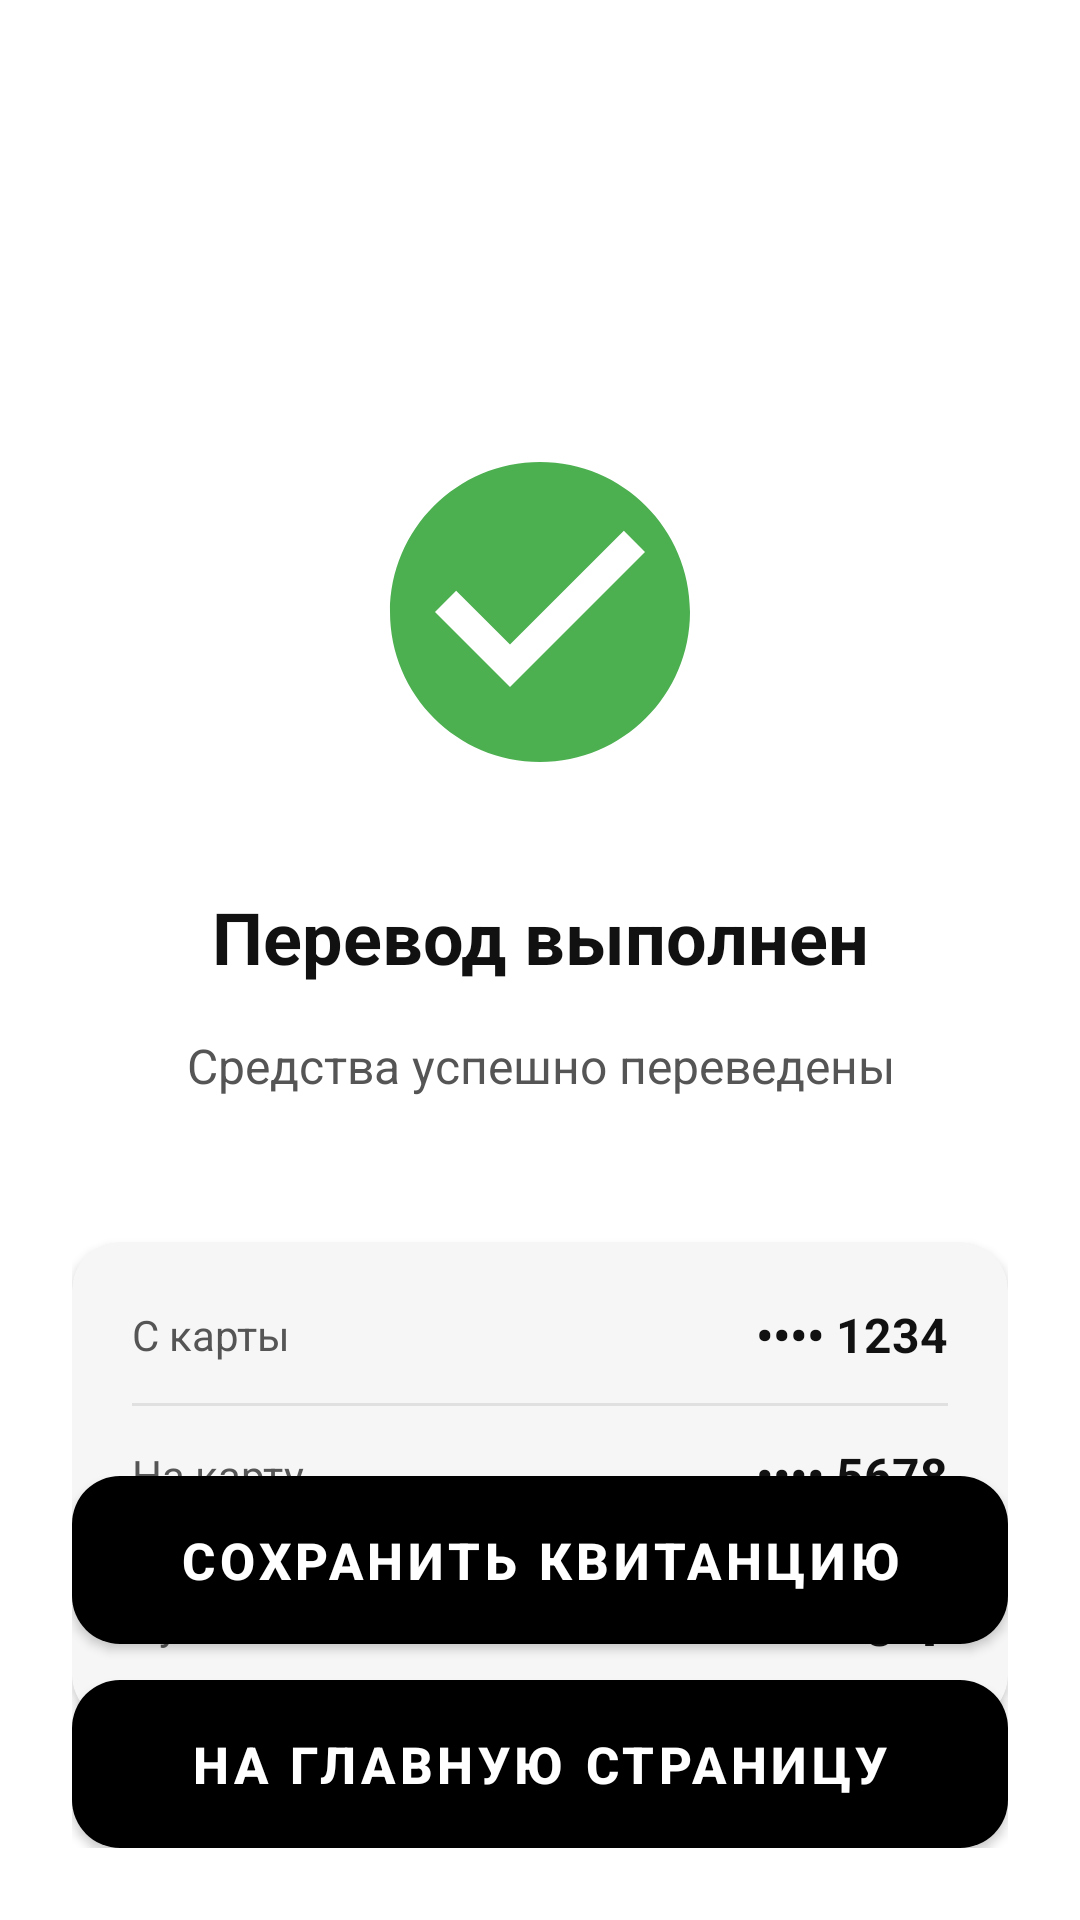

Named icons in this screenshot (1080w x 1920h) and their bounding boxes, (x1, y1, x2, y2):
check circle: (390, 462, 690, 762)
